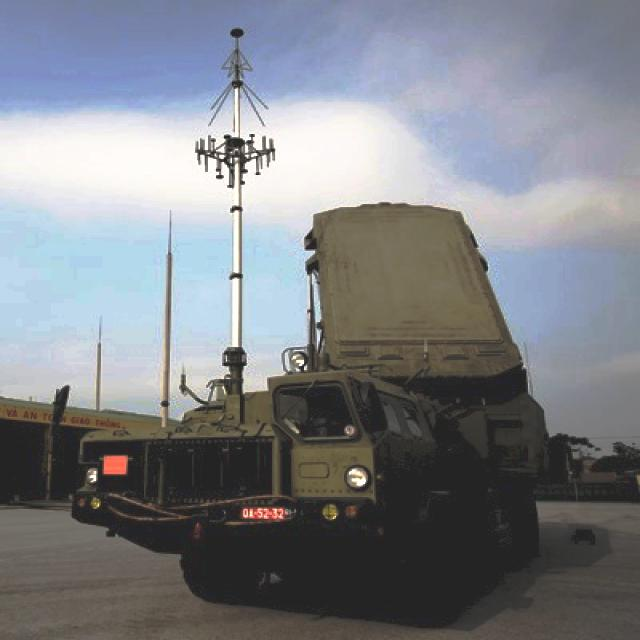license_plate: (242, 508, 292, 521)
